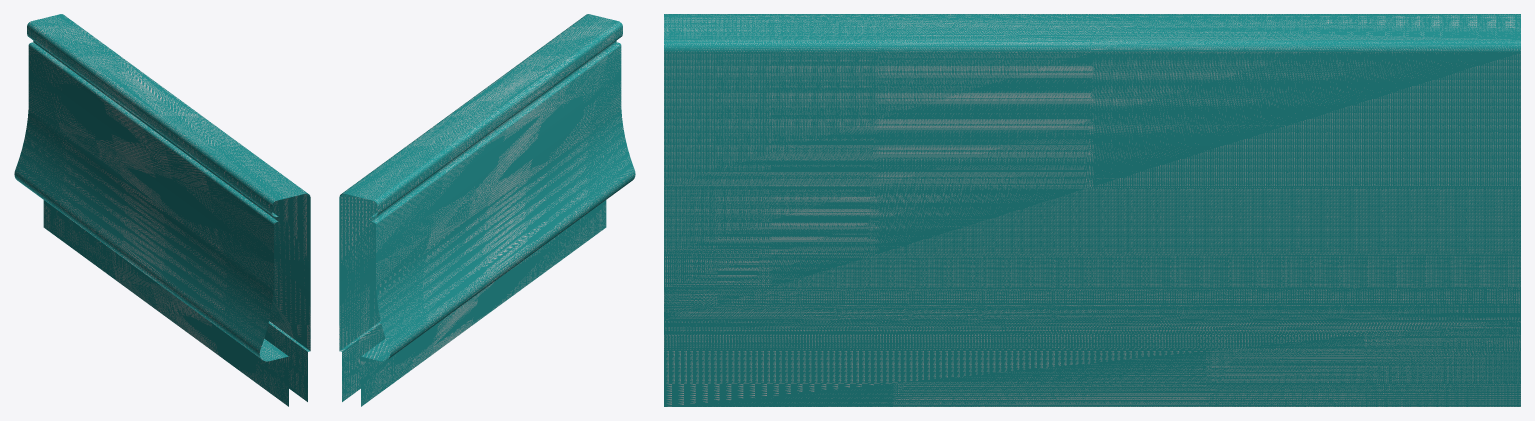
File: original-28.obj
3 views of the same model, side by side, from view 1: azimuth 30°, elevation 25°; view 2: azimuth 150°, elevation 25°; view 3: azimuth 270°, elevation 25° (orthographic). The views are drawn at different scales.
Visible parts, largest first — view 1: DF_21_TC1/DF_21_TC/mesh23/mesh23-geometry#mesh23-geometry; view 2: DF_21_TC1/DF_21_TC/mesh23/mesh23-geometry#mesh23-geometry; view 3: DF_21_TC1/DF_21_TC/mesh23/mesh23-geometry#mesh23-geometry.
Boxes of the visible parts, box(x1,y1,x2,y2) form: DF_21_TC1/DF_21_TC/mesh23/mesh23-geometry#mesh23-geometry: box(14, 14, 310, 406); DF_21_TC1/DF_21_TC/mesh23/mesh23-geometry#mesh23-geometry: box(339, 14, 635, 406); DF_21_TC1/DF_21_TC/mesh23/mesh23-geometry#mesh23-geometry: box(664, 14, 1520, 406).
Size of the model in its own units: 0.0232 by 0.0912 by 0.1938.
